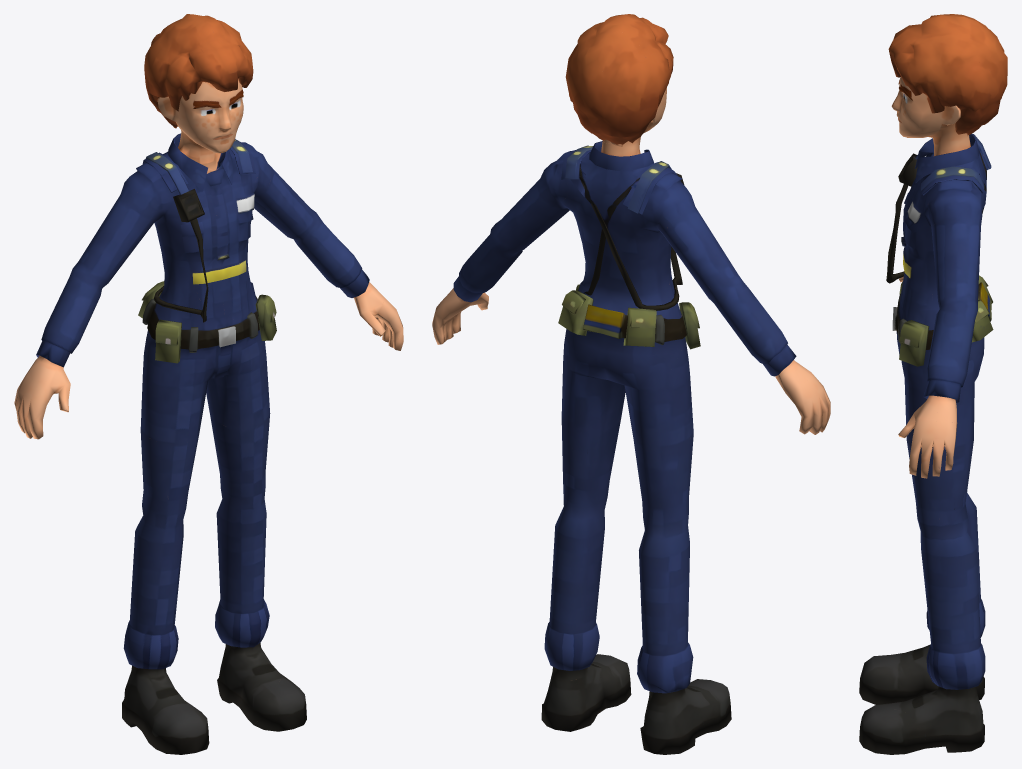
The model's file is police_redhair.glb.
3 views of the same model, side by side, from view 1: azimuth 30°, elevation 25°; view 2: azimuth 150°, elevation 25°; view 3: azimuth 270°, elevation 25° (orthographic). The views are drawn at different scales.
Visible parts, largest first — view 1: geometry_0; view 2: geometry_0; view 3: geometry_0.
Boxes of the visible parts, <box> form: geometry_0: <box>14,14,403,754</box>; geometry_0: <box>432,14,830,754</box>; geometry_0: <box>859,14,1007,754</box>.
Size of the model in its own units: 0.5425 by 0.9512 by 0.1821.
Materials: 1 (1 with a texture image).
